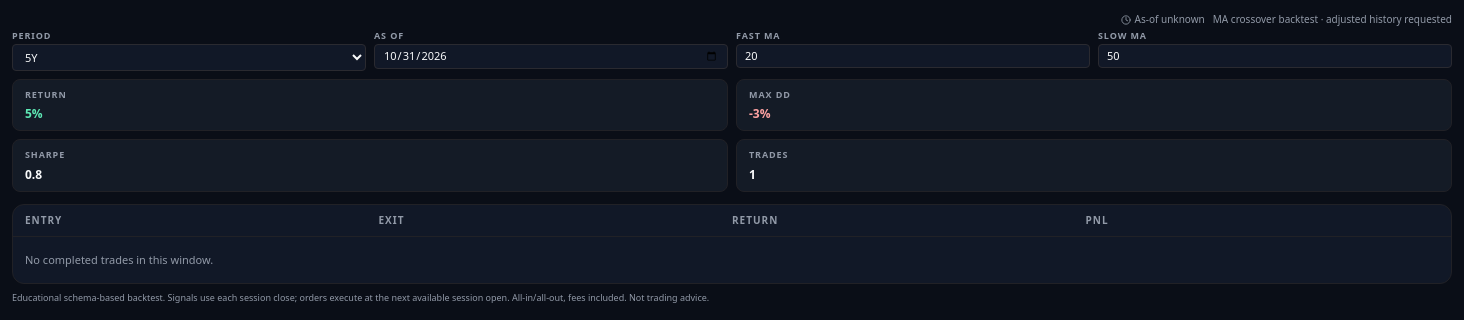
Test: keeps invalid setup editable and displays results after correcting the windows
This screenshot has width=1464, height=320.
Replace the text in the number field labelled "Fast MA" with "50" at (913, 56), box top-left (736, 44), bottom-right (1090, 68)
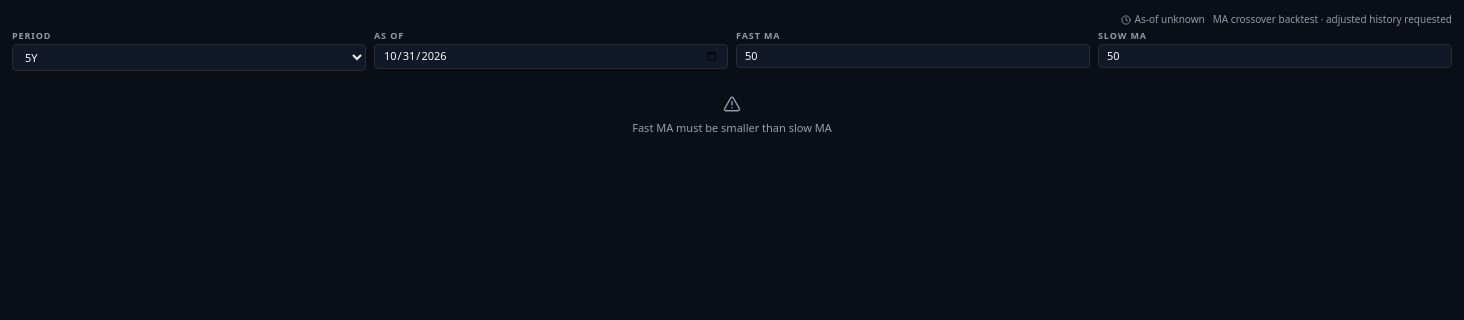
Expected: the dropdown labelled "Period" is enabled, top-left (12, 44), bottom-right (366, 70)
Expected: the text "Fast MA must be smaller than slow MA" is shown, top-left (632, 120), bottom-right (832, 135)
Expected: the text "5%" is gone
Replace the text in the number field labelled "Fast MA" with "10" at (913, 56), box top-left (736, 44), bottom-right (1090, 68)
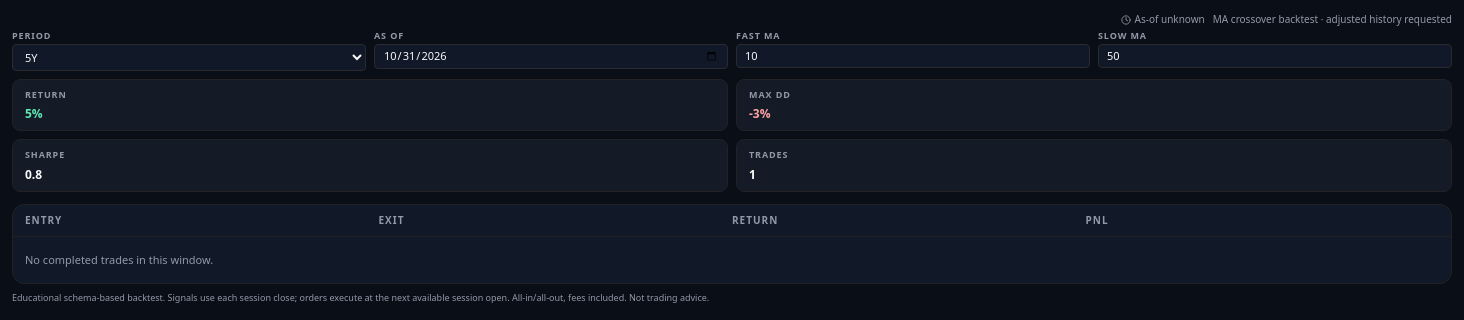
Expected: the text "Fast MA must be smaller than slow MA" is gone
Expected: the text "5%" is shown, top-left (25, 105), bottom-right (43, 122)
